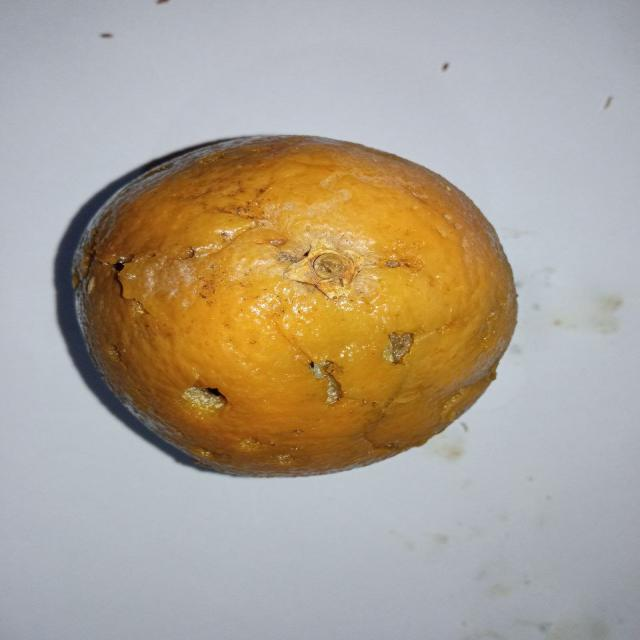rotten_orange: (70, 134, 514, 473)
